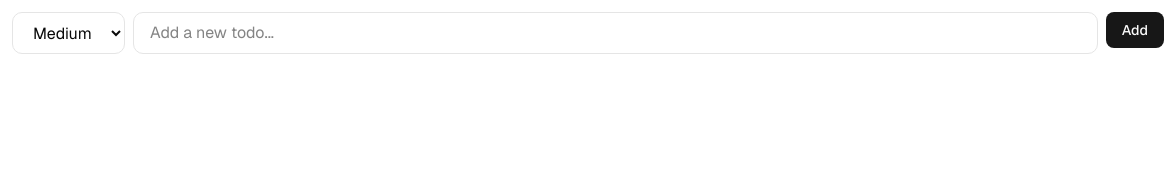
TodoForm › should clear input after submitting
Type "New todo" into the field with placeholder "Add a new todo...".
click(615, 33); type("New todo")  # box x1=133 y1=12 x2=1098 y2=54
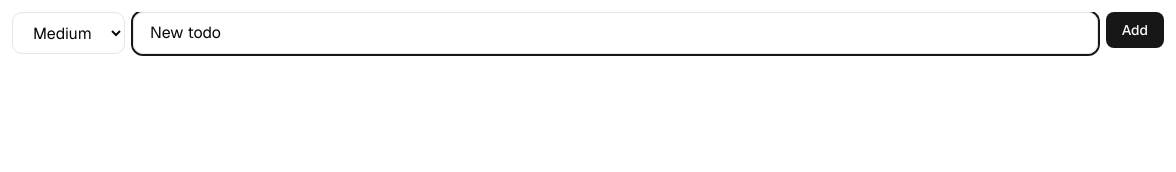
Click the button "Add".
click(1135, 30)  # box x1=1106 y1=12 x2=1164 y2=48
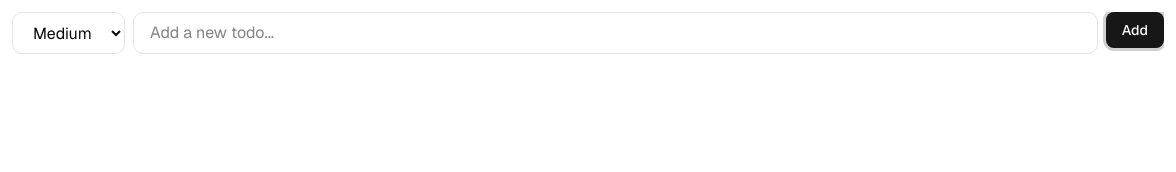
Now the field with placeholder "Add a new todo..." is empty, box x1=133 y1=12 x2=1098 y2=54
